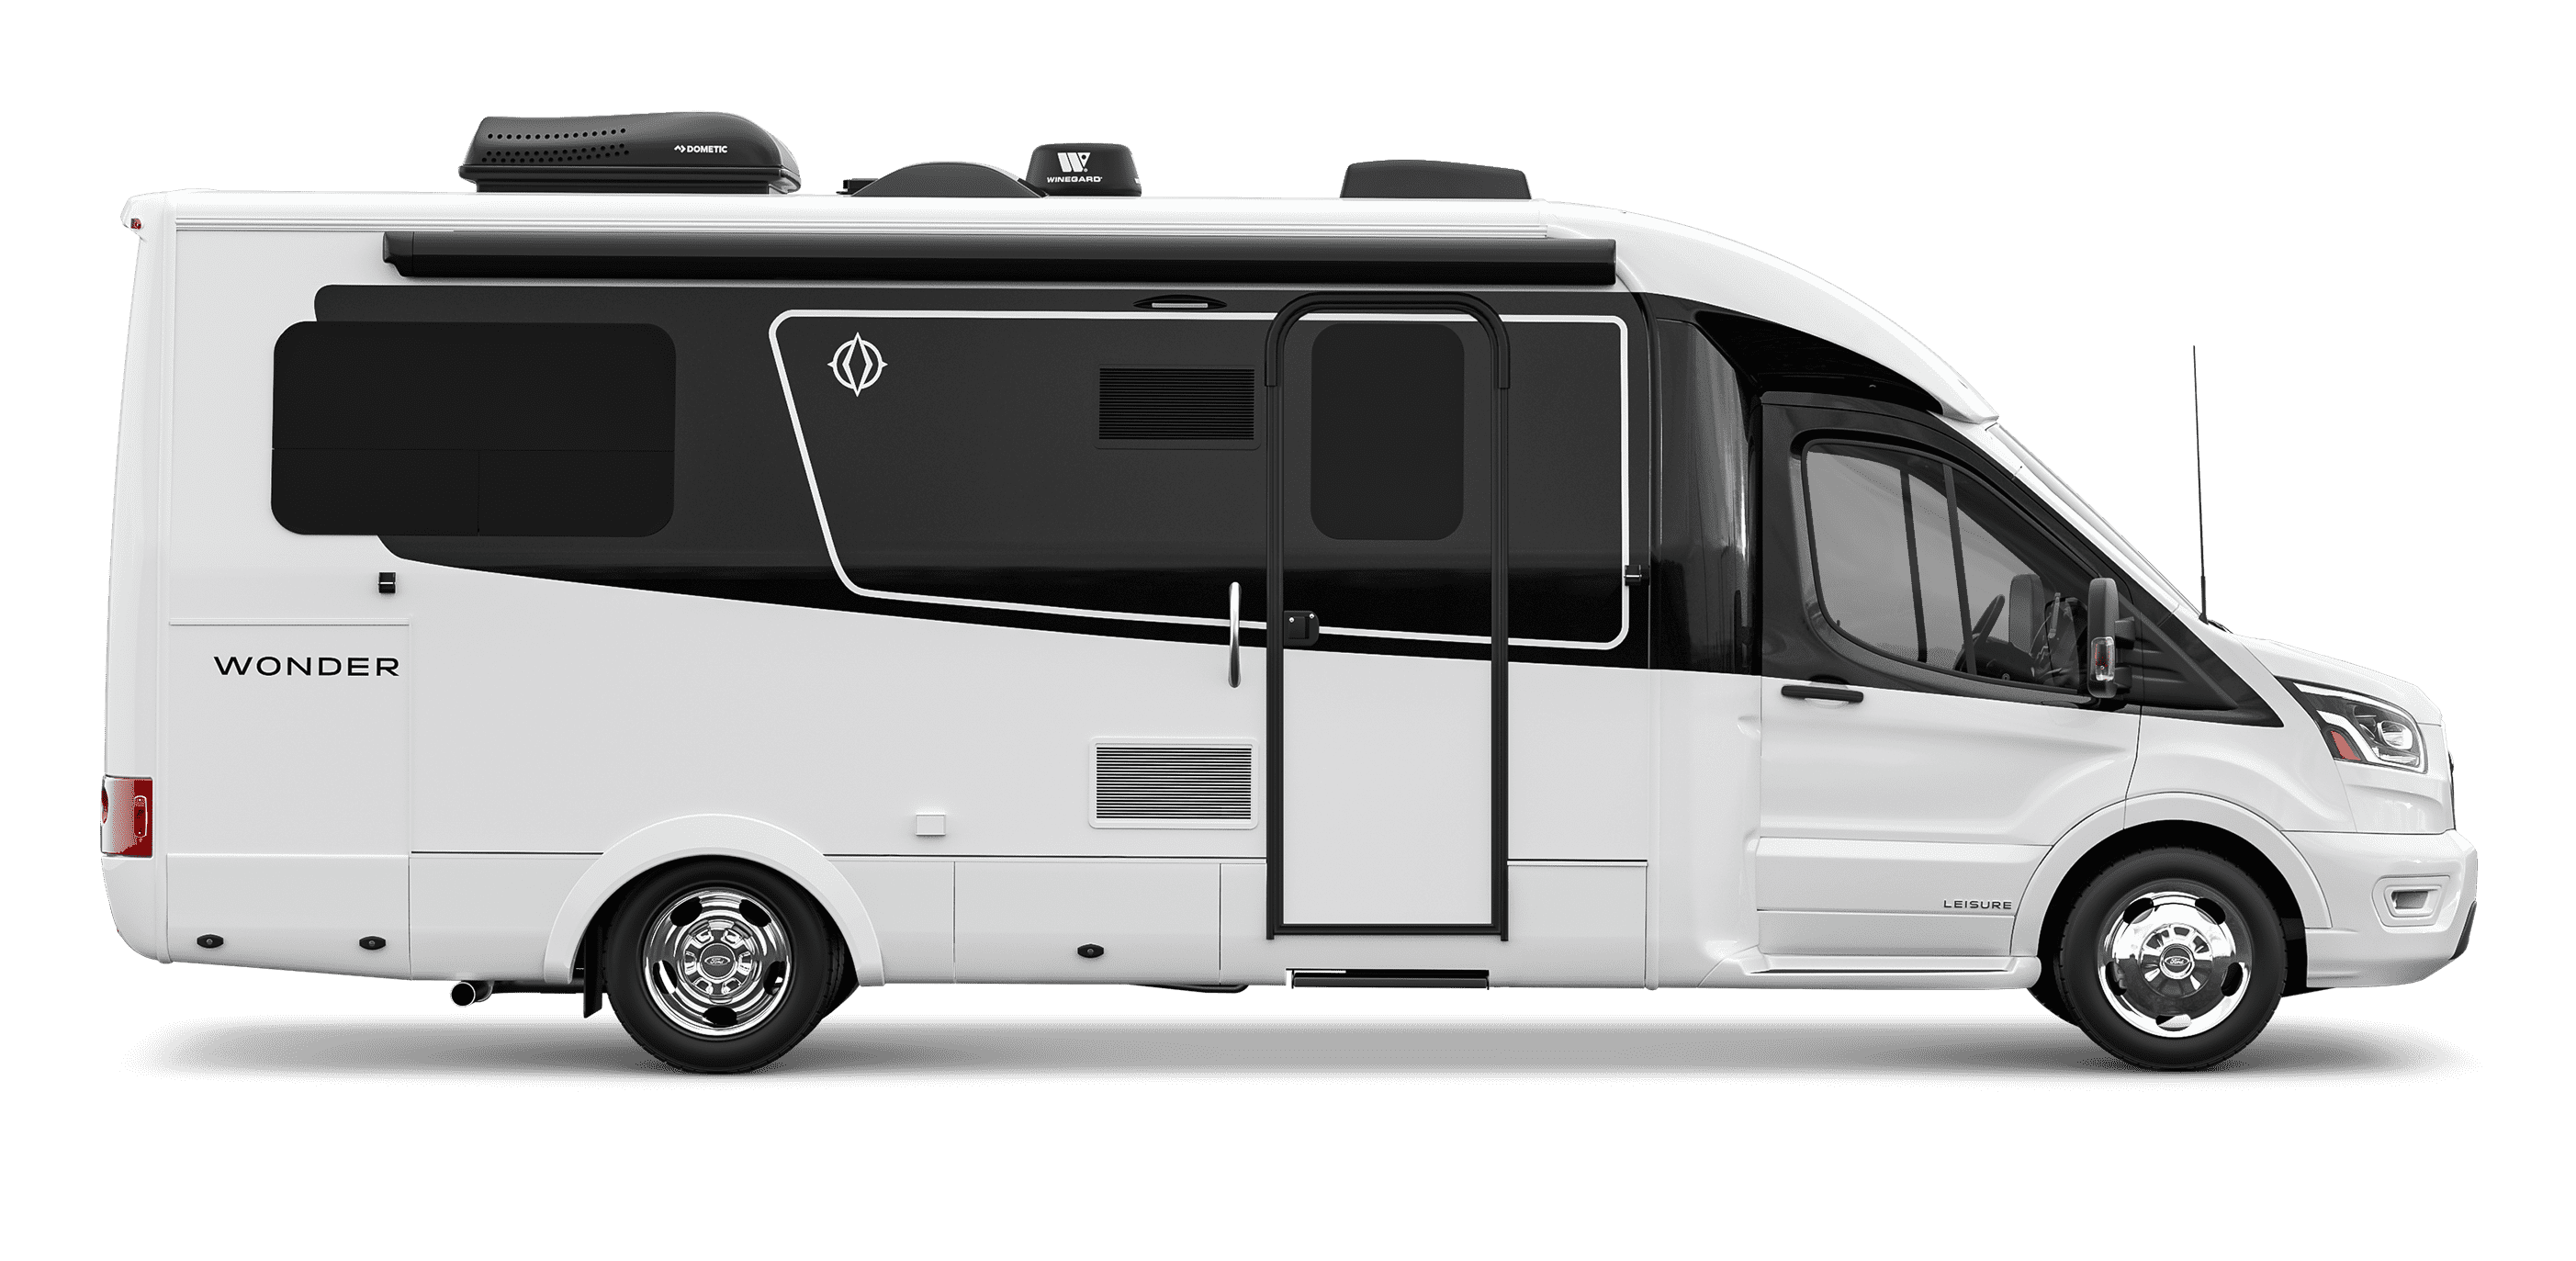van: (99, 110, 2474, 1074)
